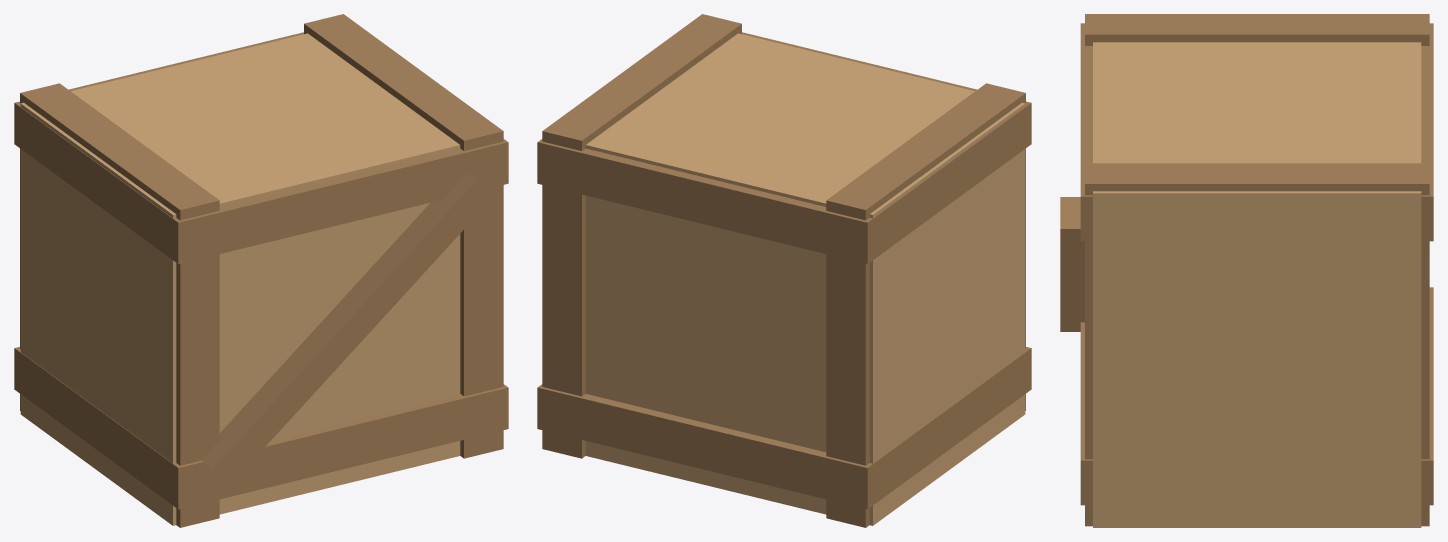
The model's file is supply-crate.glb.
3 views of the same model, side by side, from view 1: azimuth 30°, elevation 25°; view 2: azimuth 150°, elevation 25°; view 3: azimuth 270°, elevation 25° (orthographic). The views are drawn at different scales.
Parts seen in each view (by area): view 1: supply-crate; view 2: supply-crate; view 3: supply-crate.
Part boxes in pixels (box(x1,y1,x2,y2)): supply-crate: box(14, 14, 508, 527); supply-crate: box(537, 14, 1031, 527); supply-crate: box(1060, 14, 1433, 527).
Size of the model in its own units: 1 by 0.92 by 0.91.
